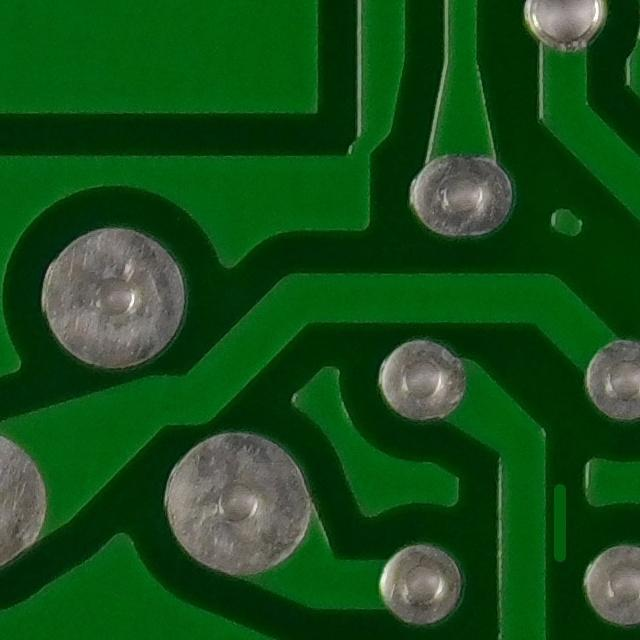spurious_copper: (532, 475, 584, 568)
